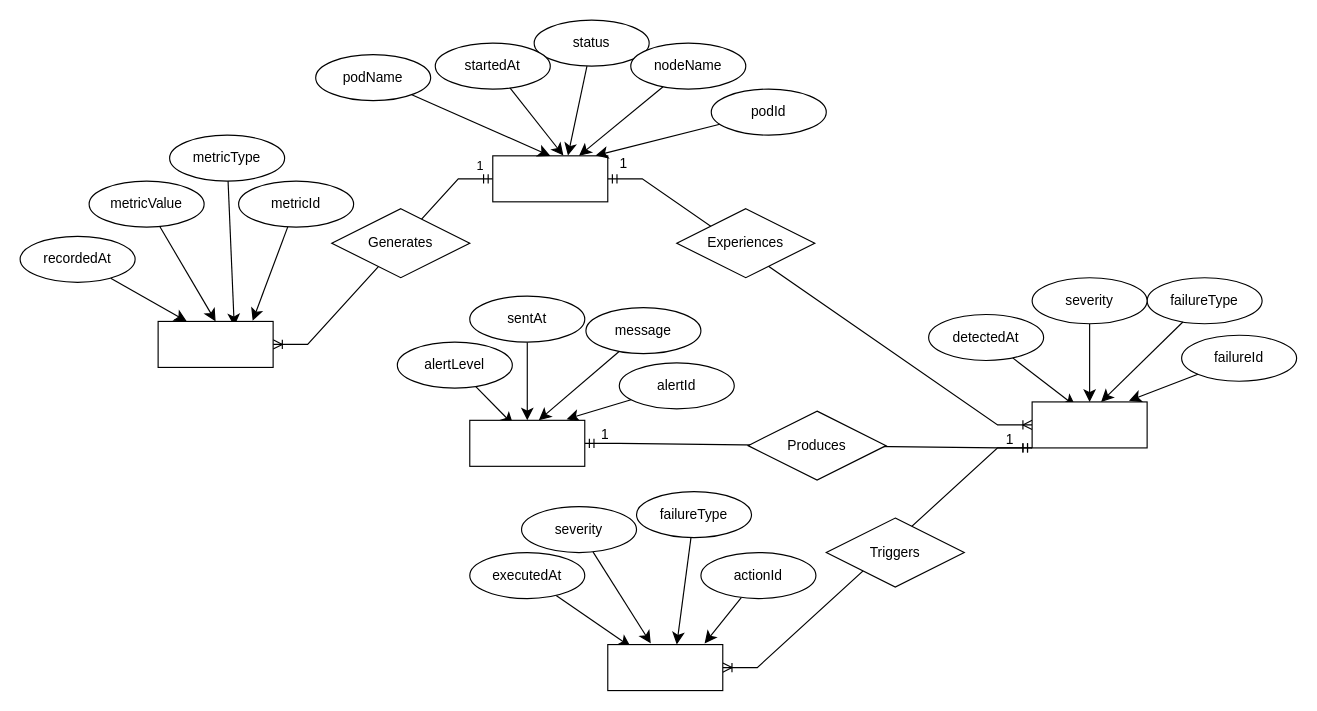
This 1317x711 diagram has some shape labels left out. The centre of each missing label's shape, as x and y in pixels:
AlertLog: (527,442)
FailureEvent: (1089,424)
MetricRecord: (215,343)
PodInstance: (550,178)
RecoveryAction: (665,667)
